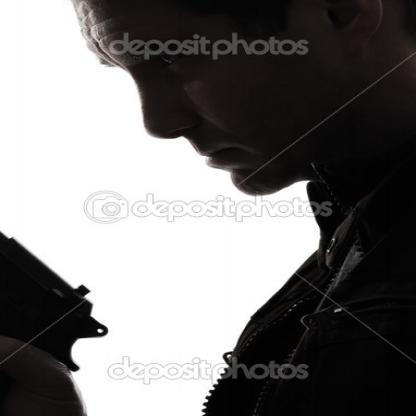gun: (0, 112, 114, 416)
